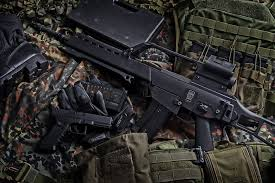gun: (21, 17, 272, 153), (35, 104, 114, 157)
